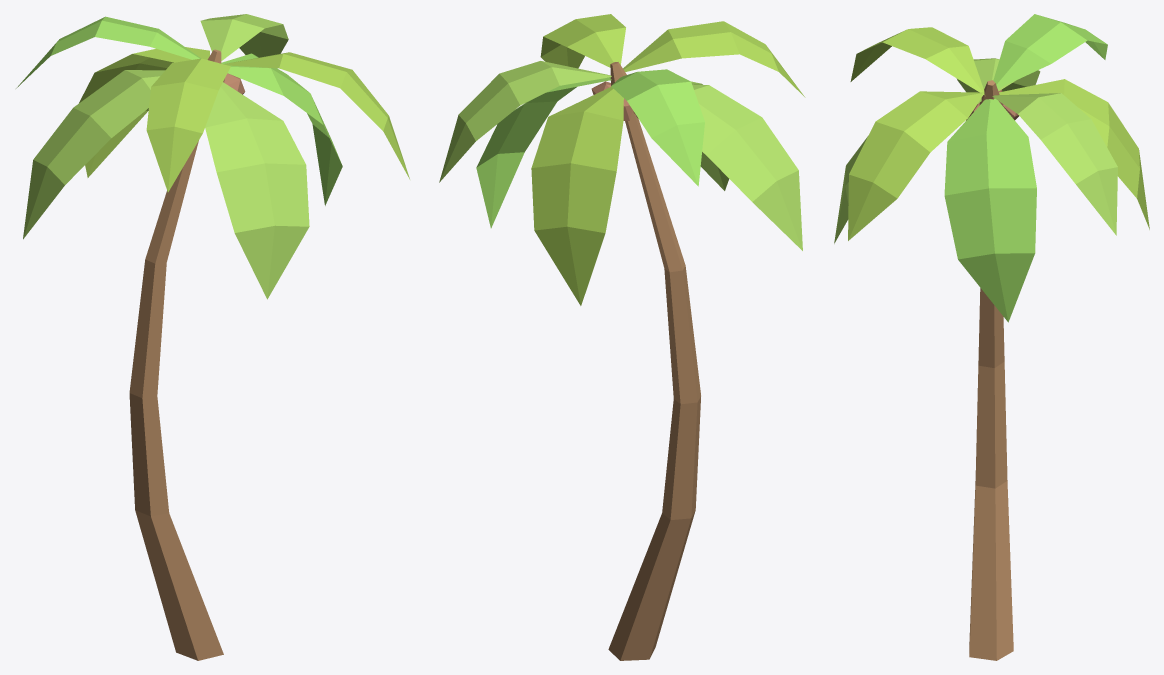
File: Palm_Tree_Coconut_OneSided_m_03_LOD.fbx
The picture shows the model from 3 angles, left to right: view 1: azimuth 30°, elevation 25°; view 2: azimuth 150°, elevation 25°; view 3: azimuth 270°, elevation 25°; orthographic projection. The views are drawn at different scales.
Visible parts, largest first — view 1: Palm_Tree_Coconut_OneSided_m_03_LOD0; view 2: Palm_Tree_Coconut_OneSided_m_03_LOD0; view 3: Palm_Tree_Coconut_OneSided_m_03_LOD0.
Part boxes in pixels (<box>): Palm_Tree_Coconut_OneSided_m_03_LOD0: <box>16,14,409,660</box>; Palm_Tree_Coconut_OneSided_m_03_LOD0: <box>439,14,805,660</box>; Palm_Tree_Coconut_OneSided_m_03_LOD0: <box>834,14,1149,660</box>.
Size of what is drawn, in the model's own units: 301 by 563 by 269.
